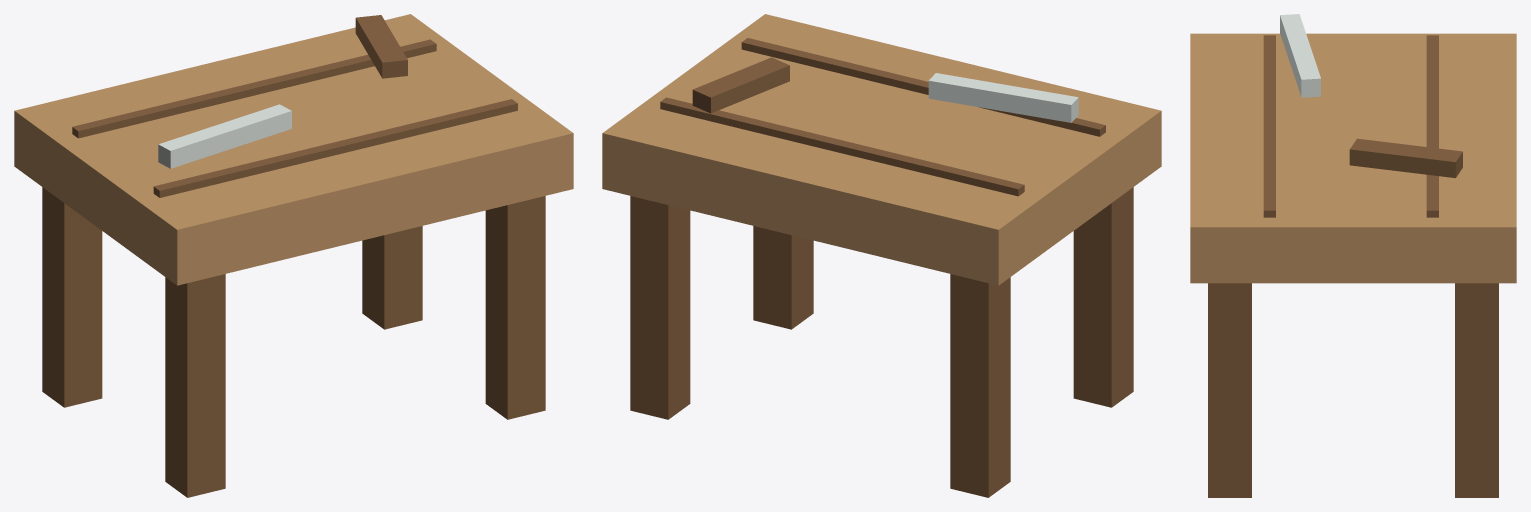
The model's file is workbench.glb.
3 renders of one model, left to right at view 1: azimuth 30°, elevation 25°; view 2: azimuth 150°, elevation 25°; view 3: azimuth 270°, elevation 25°, orthographic.
Visible parts, largest first — view 1: BenchTop, BenchLeg, BenchLeg.002, BenchLeg.001, BenchLeg.003, BenchTopGrainA, BenchTopGrainB, BenchToolA, BenchToolB; view 2: BenchTop, BenchLeg.001, BenchLeg.003, BenchLeg, BenchLeg.002, BenchTopGrainB, BenchToolA, BenchTopGrainA, BenchToolB; view 3: BenchTop, BenchLeg.002, BenchLeg.003, BenchToolB, BenchTopGrainA, BenchToolA, BenchTopGrainB.
Boxes of the visible parts, bbox=[...] form: BenchTop: bbox=[14, 14, 573, 285]; BenchLeg: bbox=[165, 274, 225, 497]; BenchLeg.002: bbox=[485, 196, 545, 419]; BenchLeg.001: bbox=[42, 187, 102, 407]; BenchLeg.003: bbox=[362, 226, 422, 329]; BenchTopGrainA: bbox=[153, 99, 517, 197]; BenchTopGrainB: bbox=[72, 39, 436, 138]; BenchToolA: bbox=[158, 104, 291, 168]; BenchToolB: bbox=[355, 15, 407, 78]; BenchTop: bbox=[602, 14, 1161, 285]; BenchLeg.001: bbox=[950, 274, 1010, 497]; BenchLeg.003: bbox=[630, 196, 690, 419]; BenchLeg: bbox=[1073, 187, 1133, 407]; BenchLeg.002: bbox=[753, 226, 813, 329]; BenchTopGrainB: bbox=[660, 97, 1024, 196]; BenchToolA: bbox=[928, 73, 1078, 122]; BenchTopGrainA: bbox=[741, 38, 1105, 136]; BenchToolB: bbox=[692, 57, 789, 113]; BenchTop: bbox=[1190, 33, 1516, 283]; BenchLeg.002: bbox=[1208, 283, 1251, 497]; BenchLeg.003: bbox=[1455, 283, 1498, 497]; BenchToolB: bbox=[1349, 138, 1462, 178]; BenchTopGrainA: bbox=[1263, 35, 1275, 217]; BenchToolA: bbox=[1280, 14, 1320, 97]; BenchTopGrainB: bbox=[1426, 35, 1438, 217].
Bounding box in the file's own units: 1.04 × 0.7925 × 0.74.
